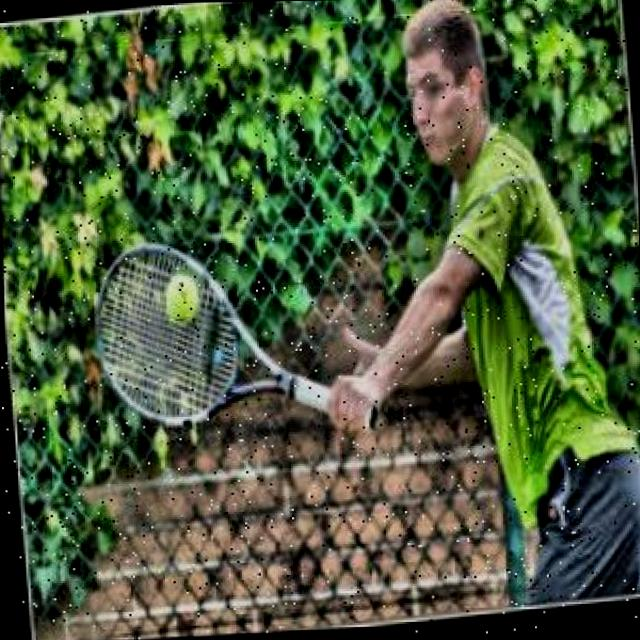Tennis Ball: (163, 272, 198, 326)
